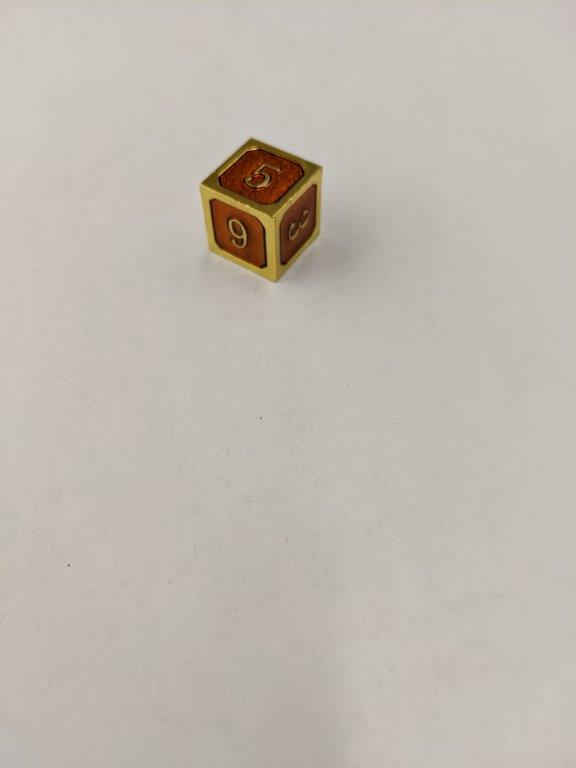d6-5: (196, 133, 323, 281)
